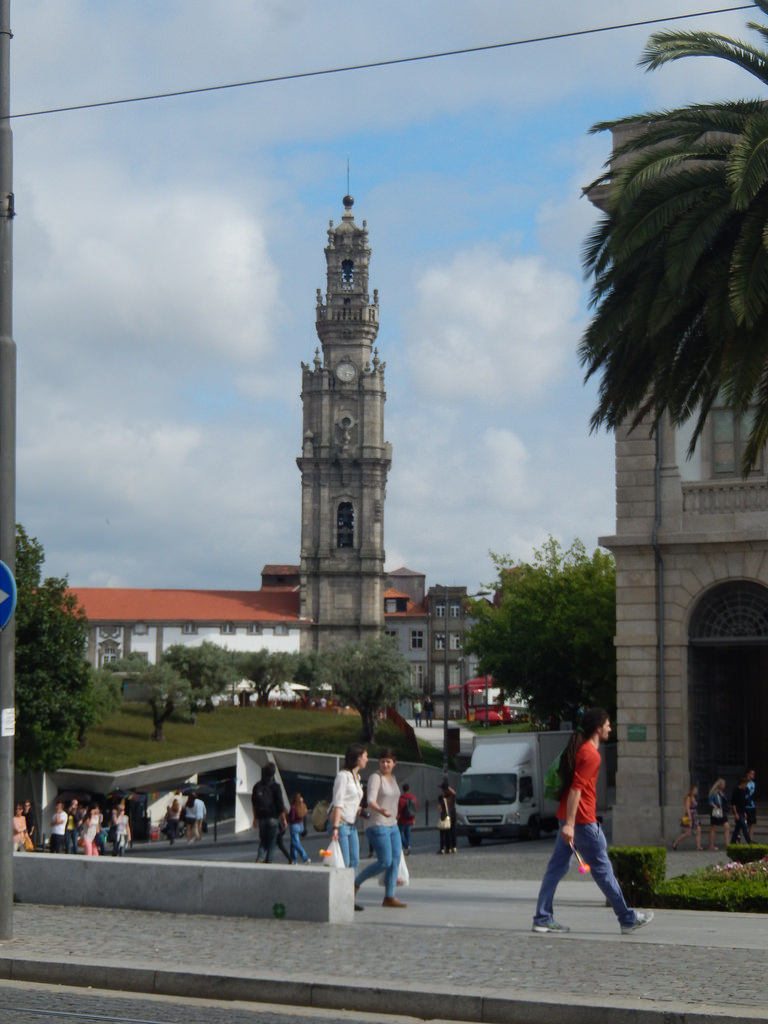clerigos: (292, 156, 393, 702)
